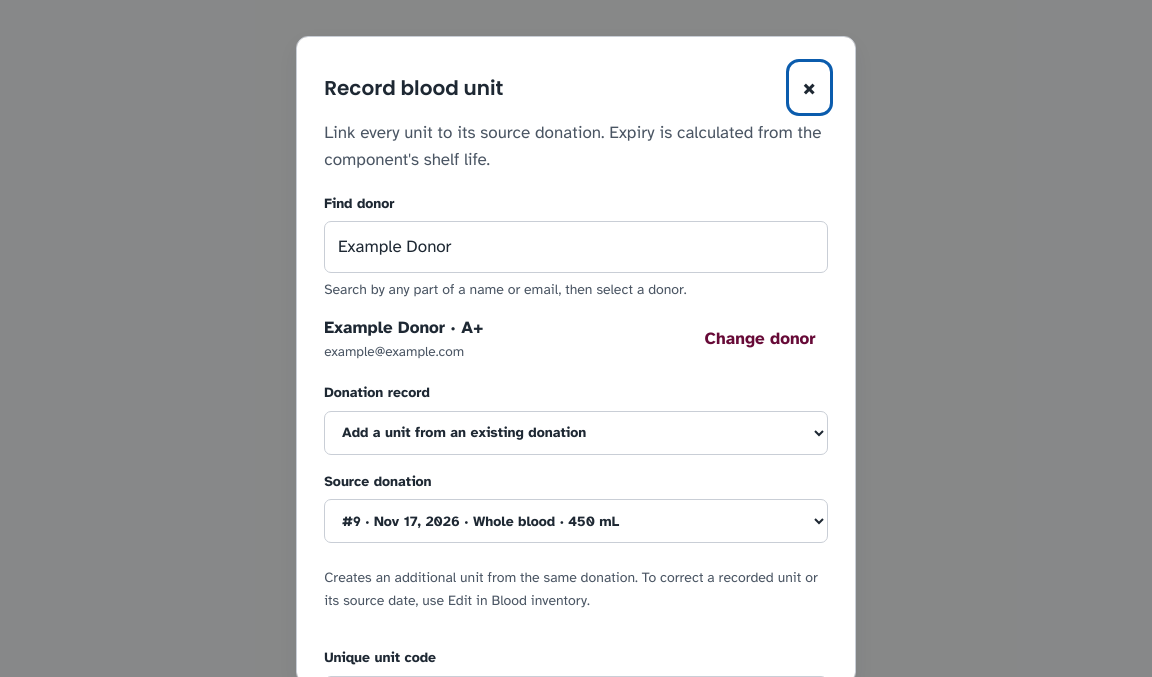
it: switching donor clears the previous source donation
The image size is (1152, 677).
expect the dropdown labelled "Source donation" is shown: met, box x1=324 y1=499 x2=828 y2=543
Replace the text in the dropdown labelled "Find donor" with "Other" at (576, 247), box x1=324 y1=221 x2=828 y2=273
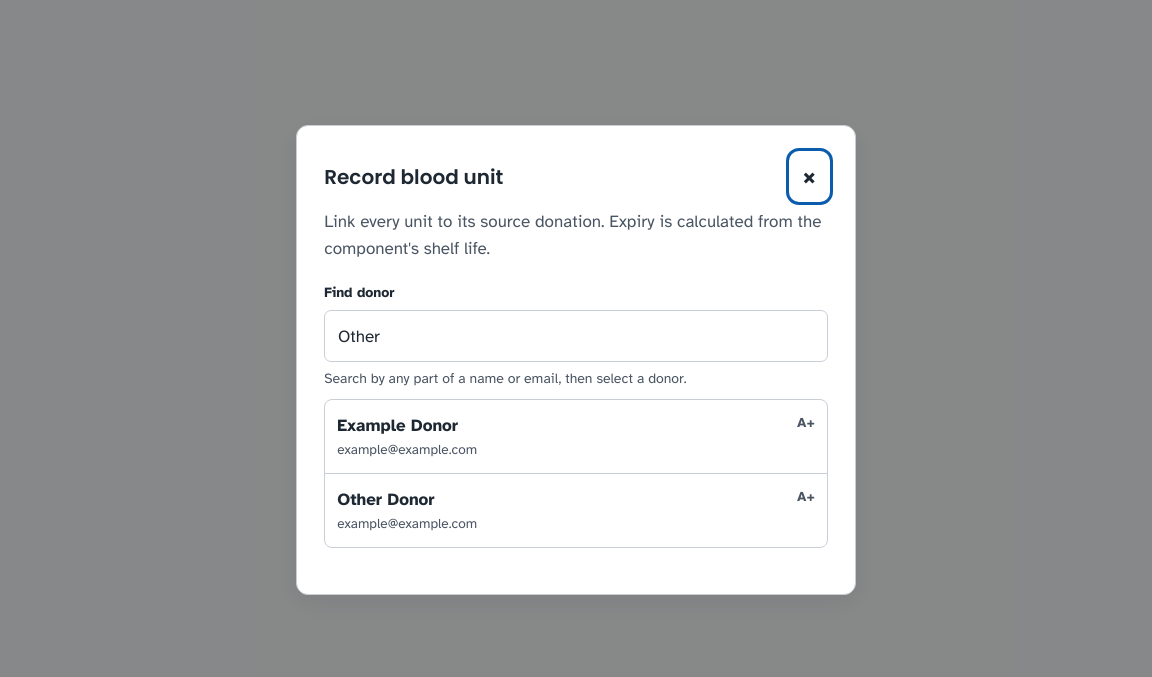
Click the option "Other Donor example@example.com A+" at (386, 499), box x1=325 y1=474 x2=827 y2=546
(page scrolled)
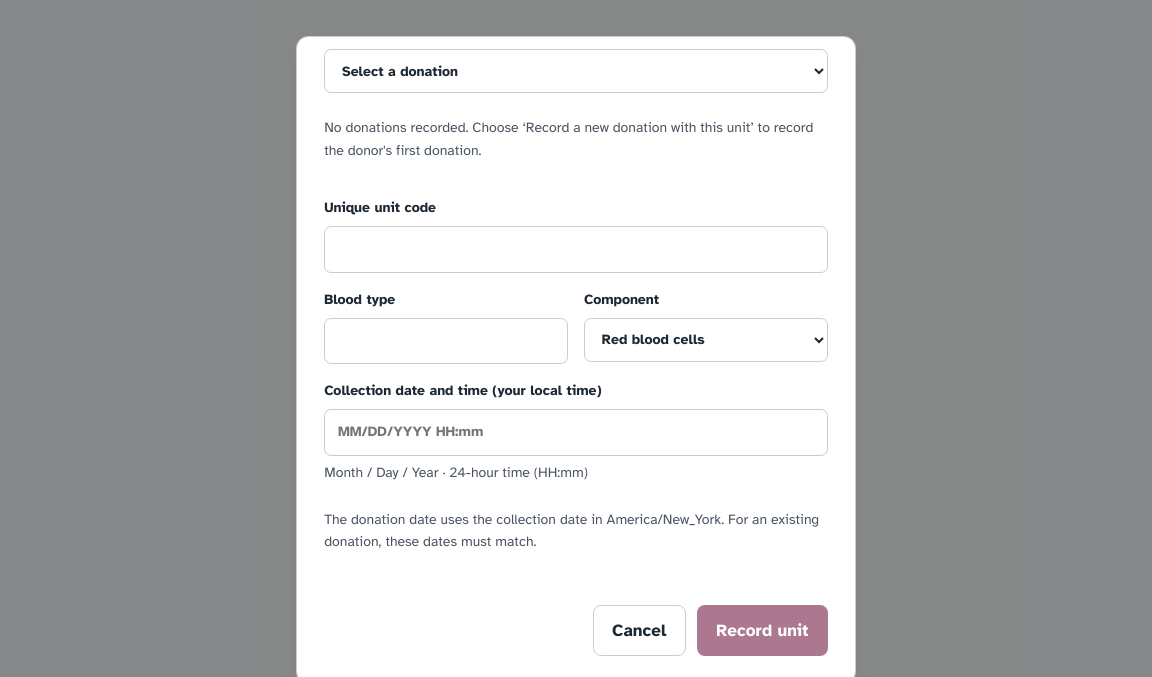
expect the dropdown labelled "Source donation" shows "Select a donation": met, box x1=324 y1=49 x2=828 y2=93
expect the button "Record unit" is disabled: met, box x1=697 y1=605 x2=828 y2=656
